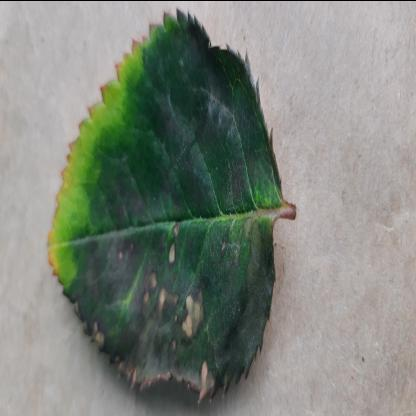powdery-mildew: (44, 16, 281, 404)
